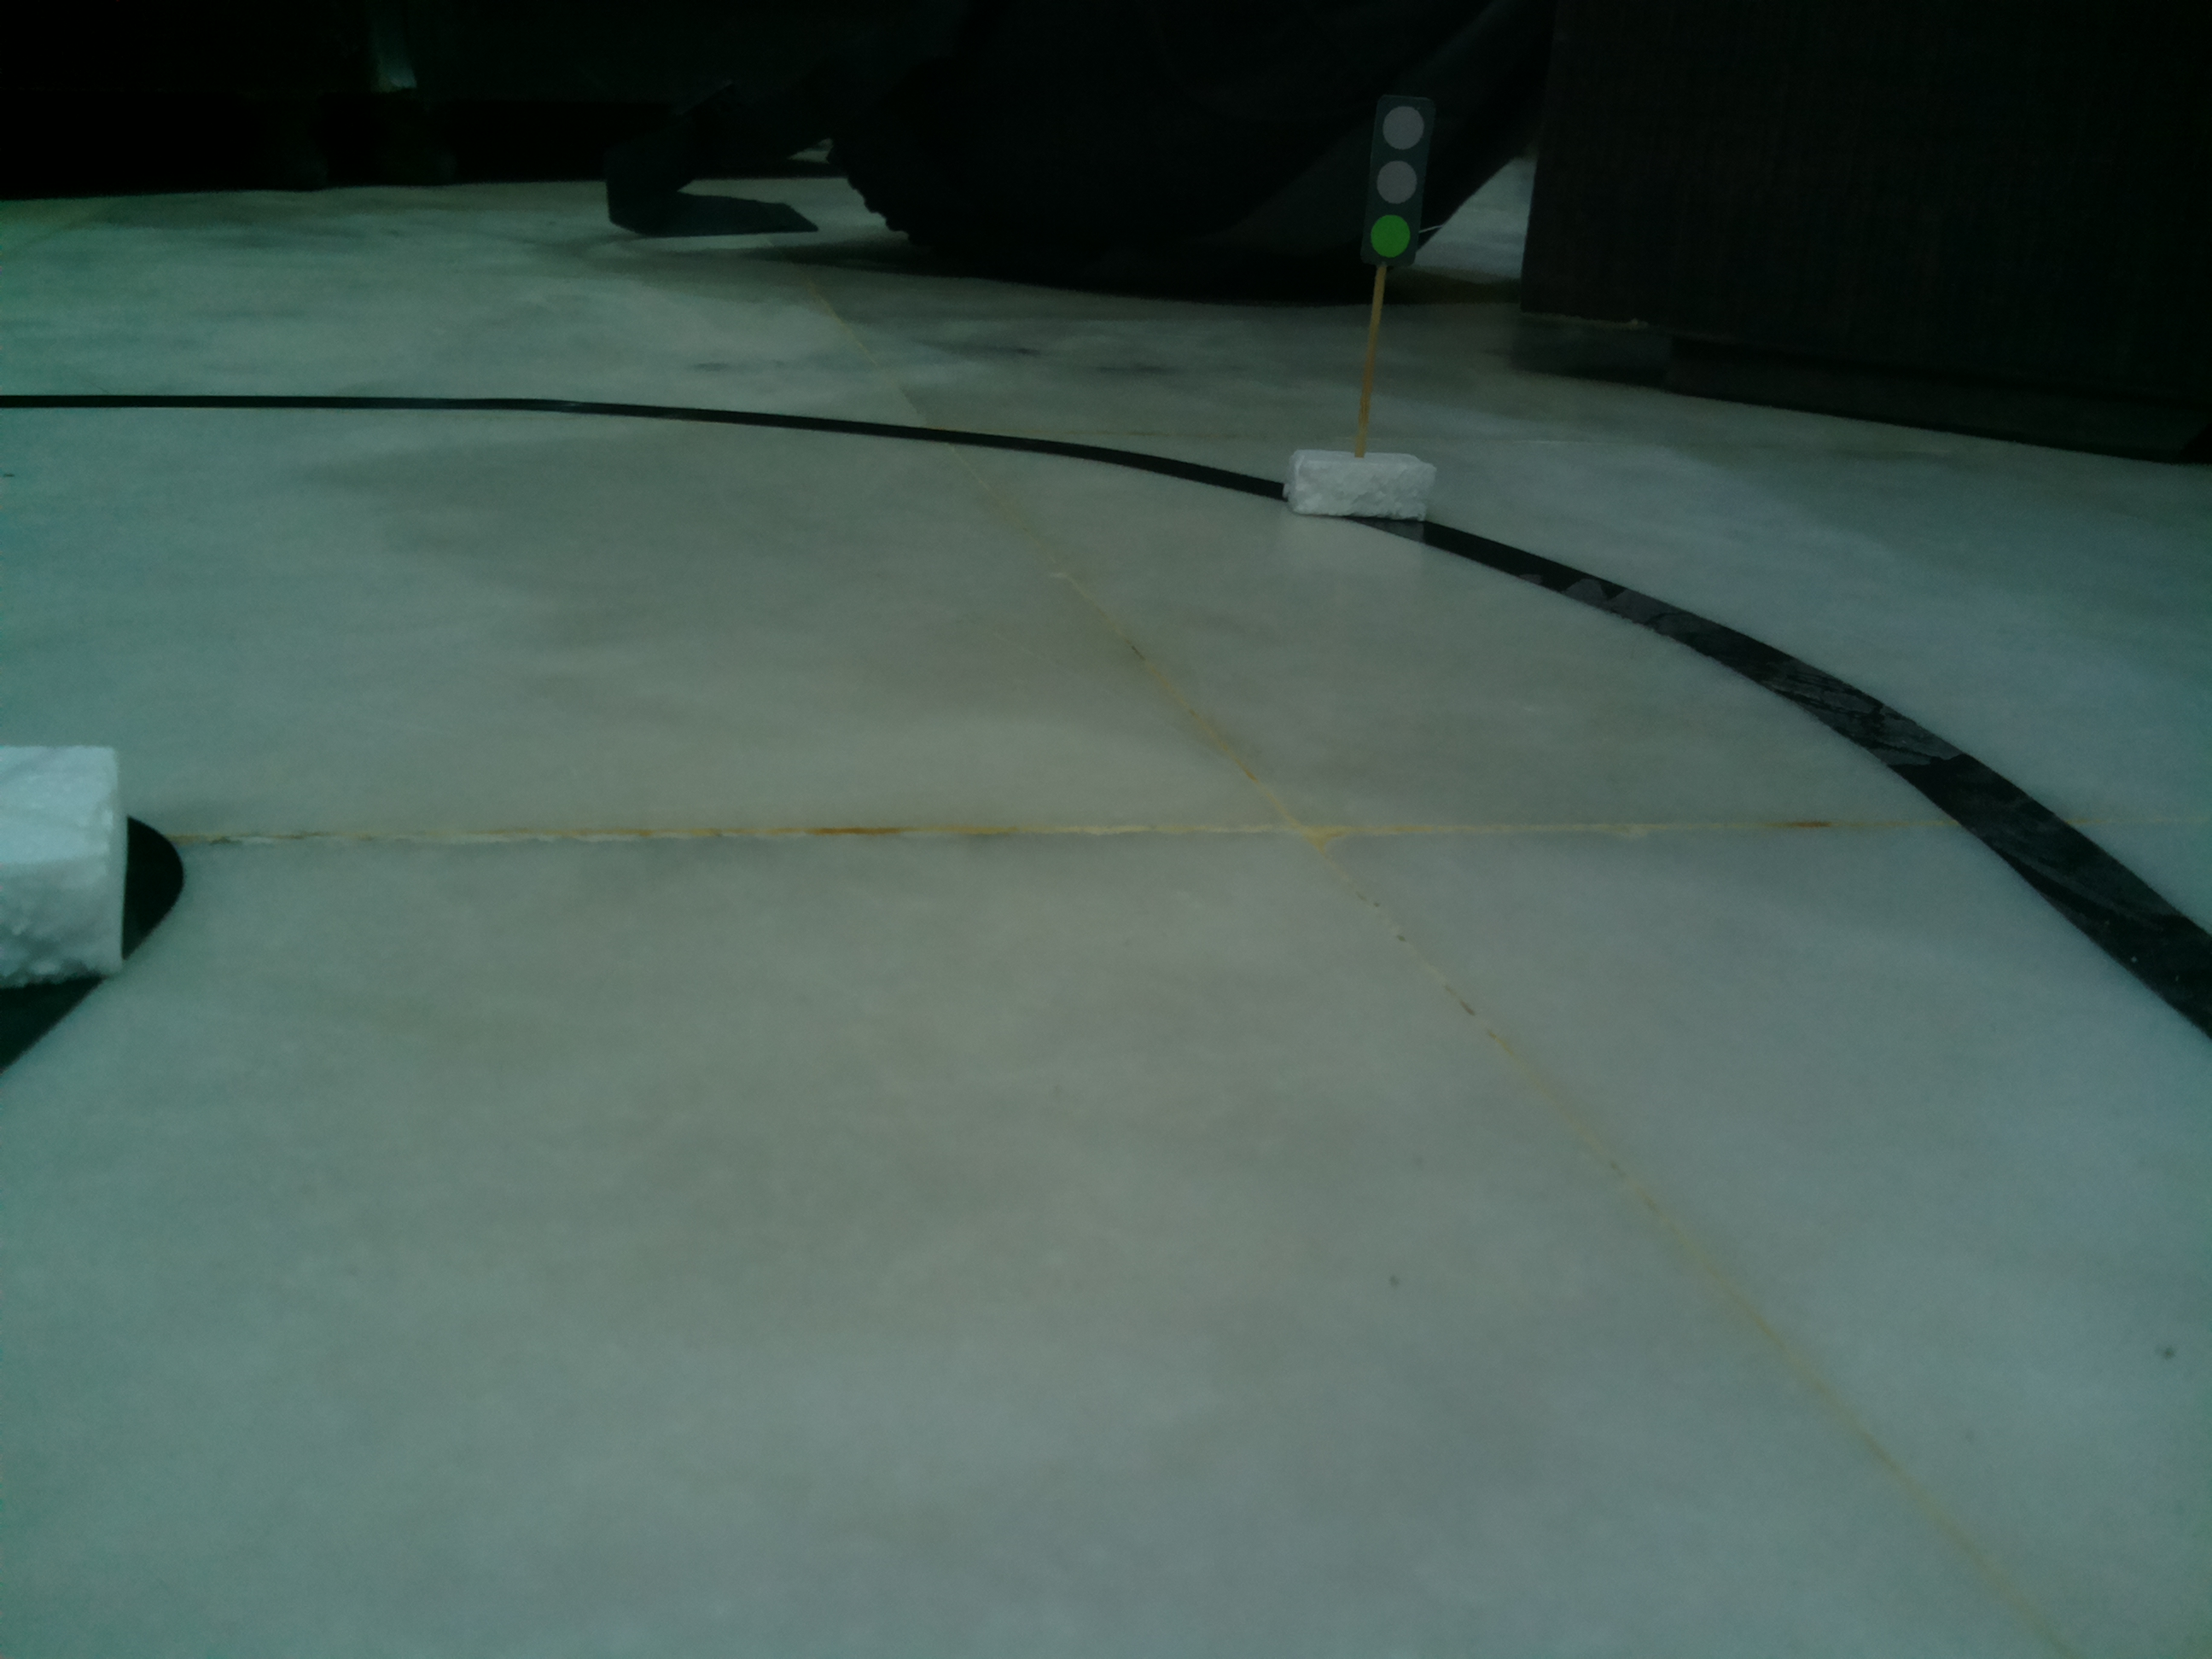Green traffic light: (1360, 92, 1433, 274)
